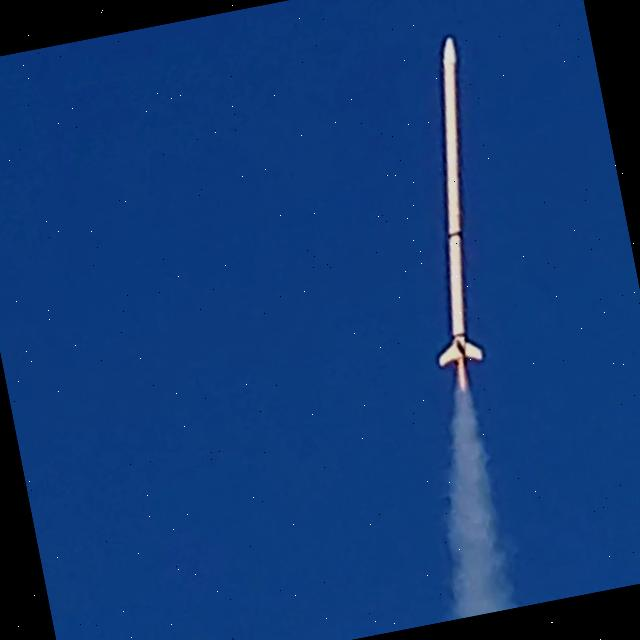rocket: (438, 36, 483, 387)
